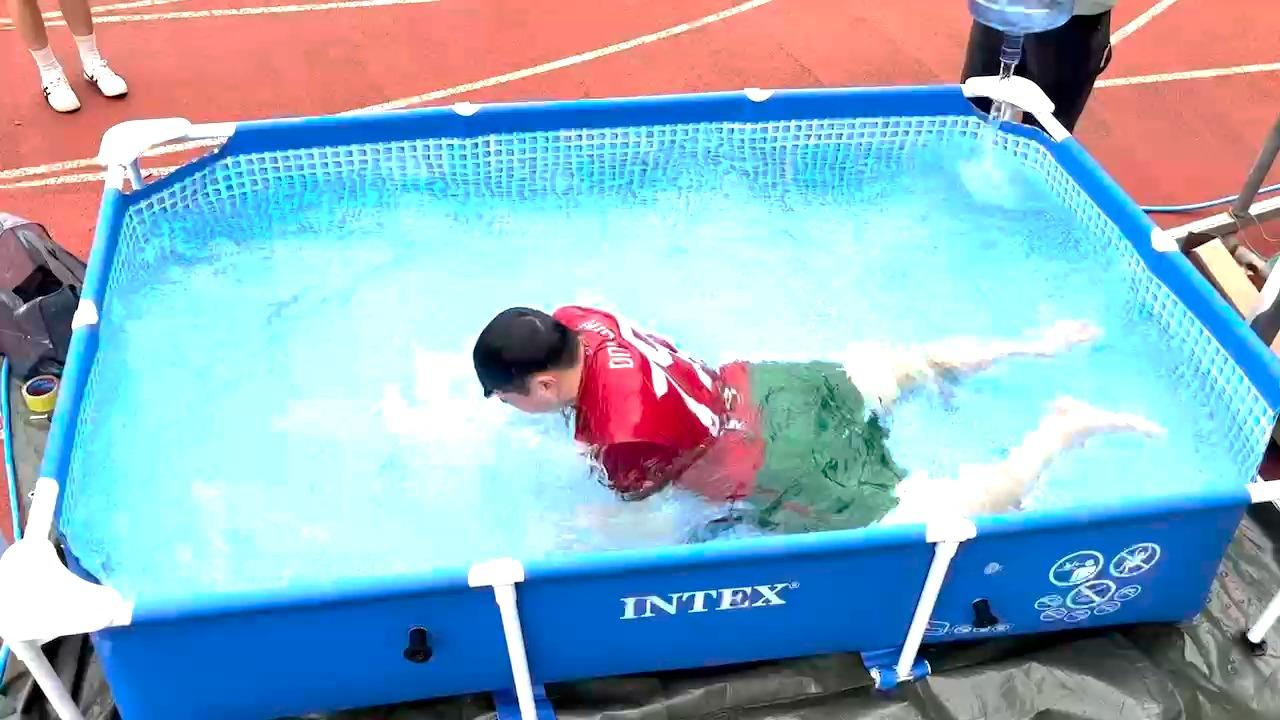Drowning: (370, 243, 1190, 552)
